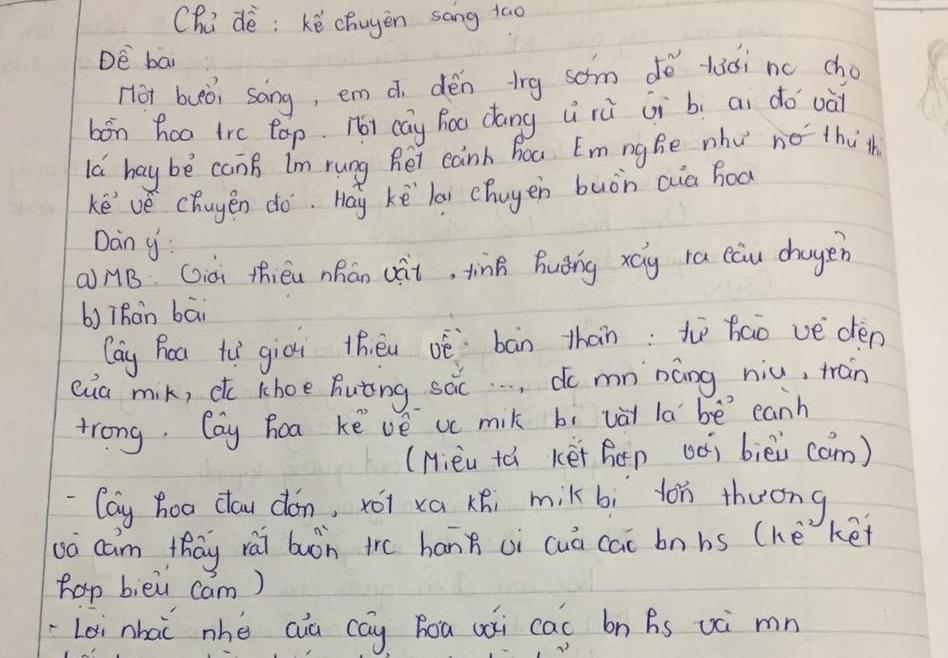text: (84, 123, 888, 194), (117, 44, 864, 119), (84, 80, 850, 153), (75, 224, 859, 293), (100, 311, 888, 379), (71, 387, 820, 456), (48, 513, 879, 573), (68, 354, 890, 414), (85, 159, 757, 227), (88, 471, 827, 531), (68, 604, 806, 658), (406, 429, 872, 481), (170, 0, 529, 42), (54, 565, 267, 611), (57, 642, 573, 658), (77, 292, 210, 332), (94, 40, 179, 76), (92, 228, 173, 262)
